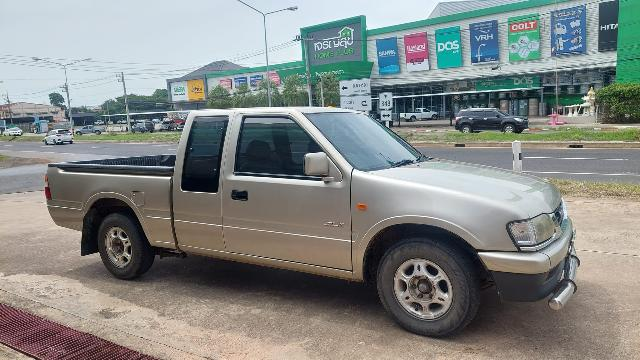pickup-truck: (38, 102, 590, 346)
